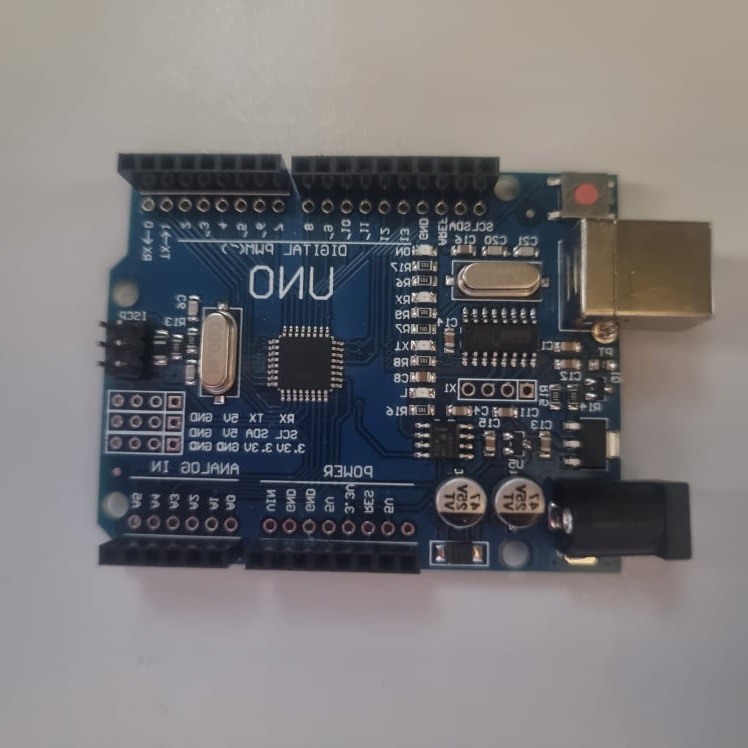UNO R3: (91, 156, 714, 569)
